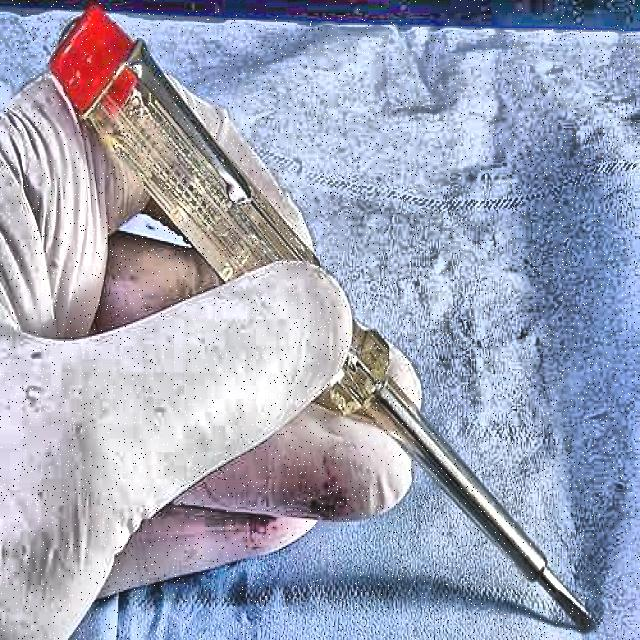screwdriver: (49, 7, 596, 632)
